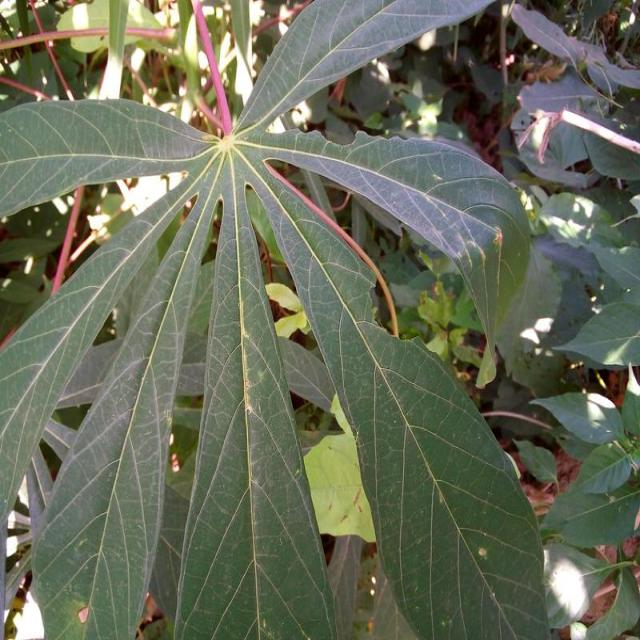cassava leaf: (1, 0, 550, 638), (240, 152, 552, 638), (172, 149, 338, 638)
